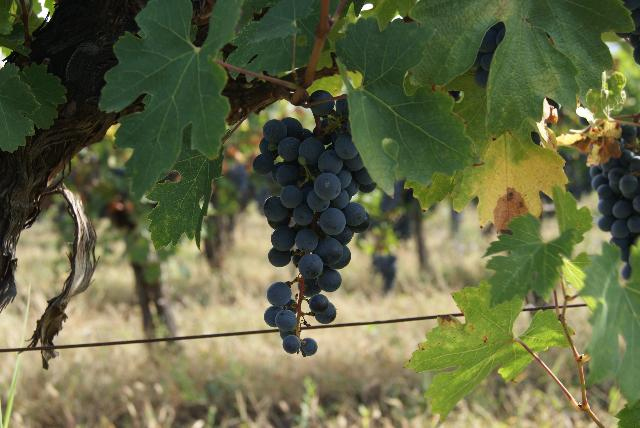grapes: (252, 90, 376, 356), (590, 125, 640, 280)
